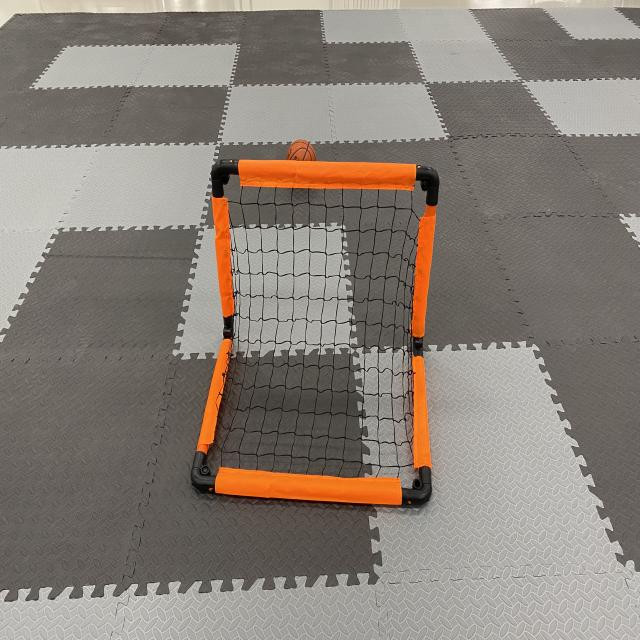ball: (284, 135, 320, 172)
gate: (185, 154, 444, 516)
